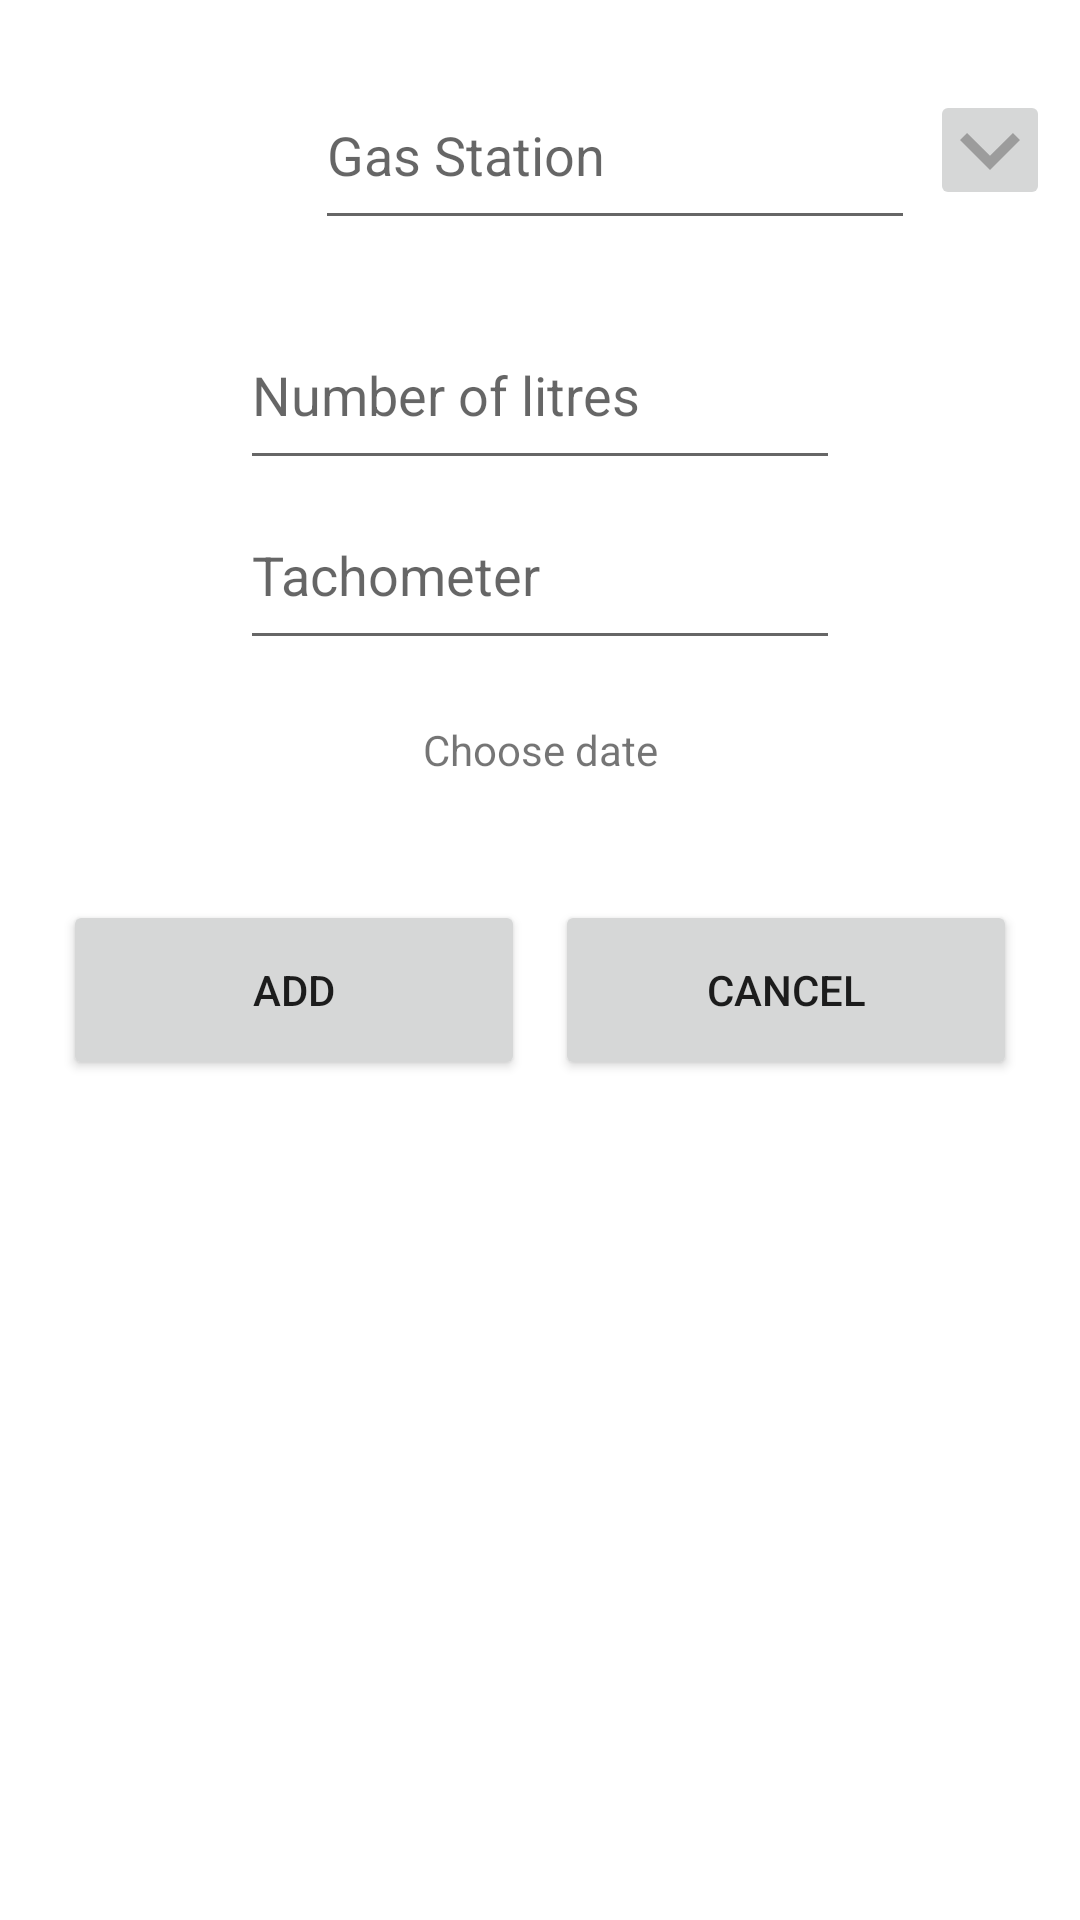

Point at icon controls on the screen. Image size 1080px×1920px, points as (x=x, y=y).
keyboard arrow down: (x=990, y=150)
